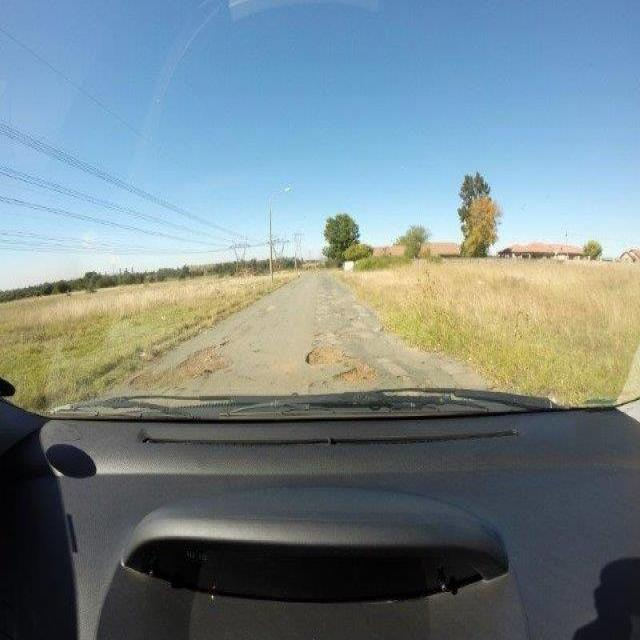lubang: (131, 328, 232, 396), (302, 339, 357, 368), (332, 355, 380, 384), (346, 312, 374, 343), (312, 325, 342, 345), (308, 373, 337, 391), (412, 371, 439, 387), (394, 367, 414, 384)
